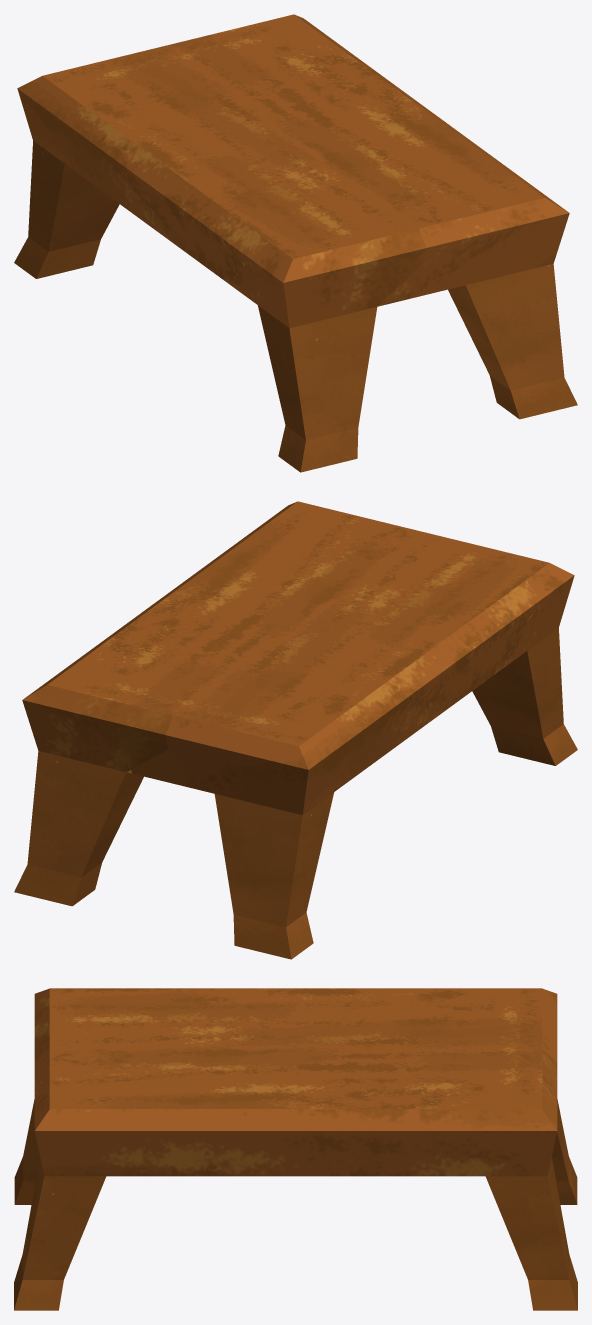
File: SM_table.fbx
The picture shows the model from 3 angles, top to bottom: view 1: azimuth 30°, elevation 25°; view 2: azimuth 150°, elevation 25°; view 3: azimuth 270°, elevation 25°; orthographic projection.
Parts seen in each view (by area): view 1: table; view 2: table; view 3: table.
Part boxes in pixels (x1,y1,x2,y2): table: (14, 14, 577, 472); table: (14, 501, 577, 959); table: (14, 988, 577, 1310).
Size of the model in its own units: 14.55 by 9.59 by 25.26.
